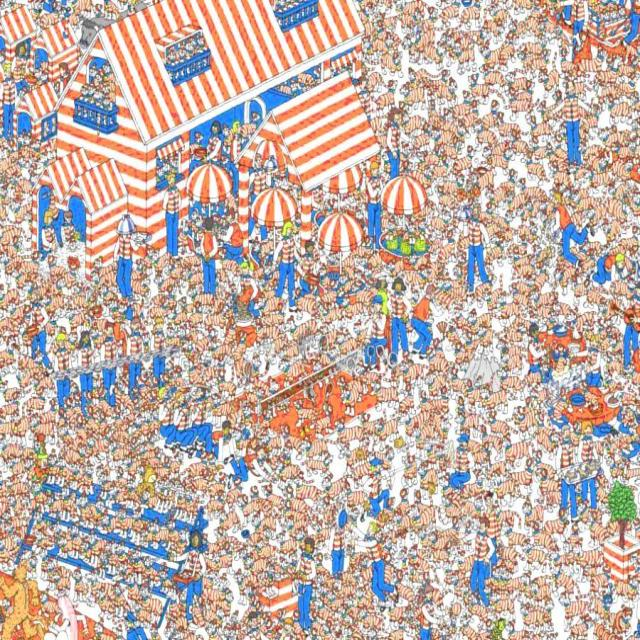waldo: (482, 490, 493, 510)
